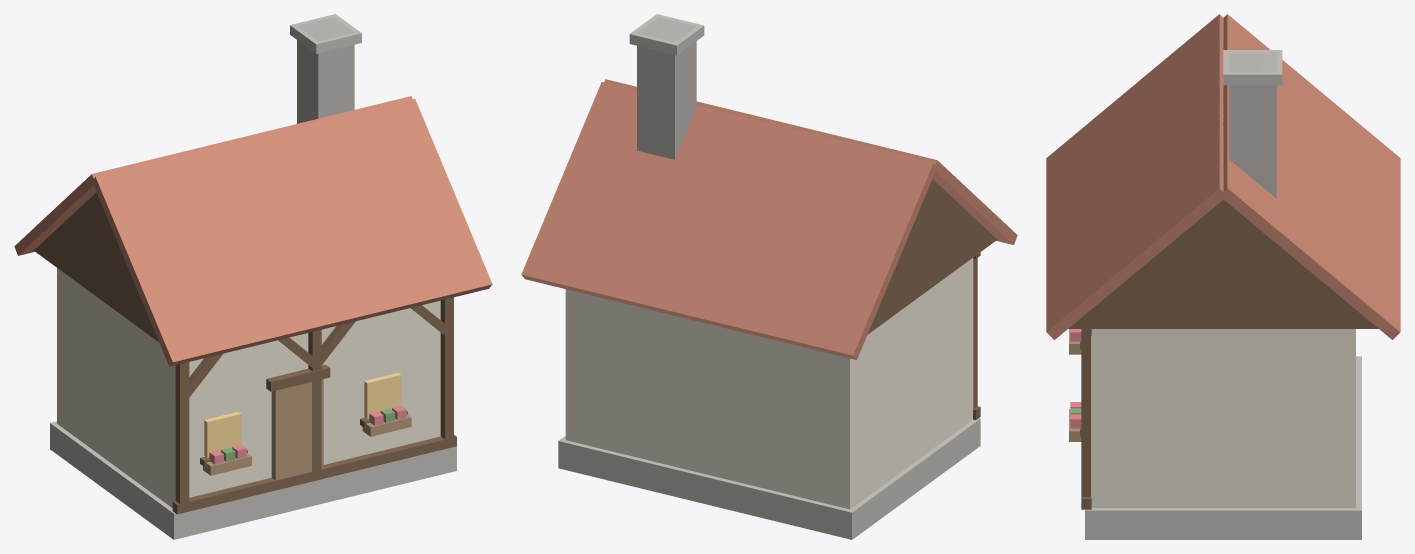
The model's file is cottage_a.glb.
3 views of the same model, side by side, from view 1: azimuth 30°, elevation 25°; view 2: azimuth 150°, elevation 25°; view 3: azimuth 270°, elevation 25° (orthographic). The views are drawn at different scales.
Visible parts, largest first — view 1: Cube.011, Cube.001, Cube, hastial, Cube.013, Cube.015, Cube.002, Cube.012, Cube.004, Cube.005, Cube.006, Cube.017 (+4 smaller); view 2: Cube.012, Cube.001, Cube, hastial, Cube.013, Cube.011, Cube.014, Cube.004; view 3: Cube.001, Cube.011, Cube.012, hastial.001, Cube, Cube.013, Cube.005, Cube.014.
Boxes of the visible parts, x1,y1,x2,y2 form: Cube.011: [92, 98, 492, 366]; Cube.001: [57, 268, 440, 507]; Cube: [50, 421, 456, 539]; hastial: [34, 192, 158, 341]; Cube.013: [297, 17, 354, 123]; Cube.015: [271, 379, 323, 490]; Cube.002: [172, 435, 456, 514]; Cube.012: [14, 96, 412, 255]; Cube.004: [175, 362, 189, 513]; Cube.005: [440, 297, 453, 447]; Cube.006: [308, 329, 321, 477]; Cube.017: [204, 411, 241, 457]; Cube.012: [521, 82, 936, 359]; Cube.001: [565, 258, 973, 509]; Cube: [558, 418, 980, 539]; hastial: [867, 179, 997, 334]; Cube.013: [637, 17, 696, 159]; Cube.011: [604, 79, 1017, 244]; Cube.014: [629, 14, 704, 55]; Cube.004: [973, 258, 977, 408]; Cube.001: [1091, 329, 1355, 507]; Cube.011: [1046, 14, 1226, 339]; Cube.012: [1221, 14, 1400, 339]; hastial.001: [1068, 199, 1378, 328]; Cube: [1085, 356, 1361, 539]; Cube.013: [1229, 52, 1276, 198]; Cube.005: [1081, 336, 1090, 497]; Cube.014: [1223, 50, 1282, 85].
Bounding box in the file's own units: 2.8 × 3.35 × 2.4.
